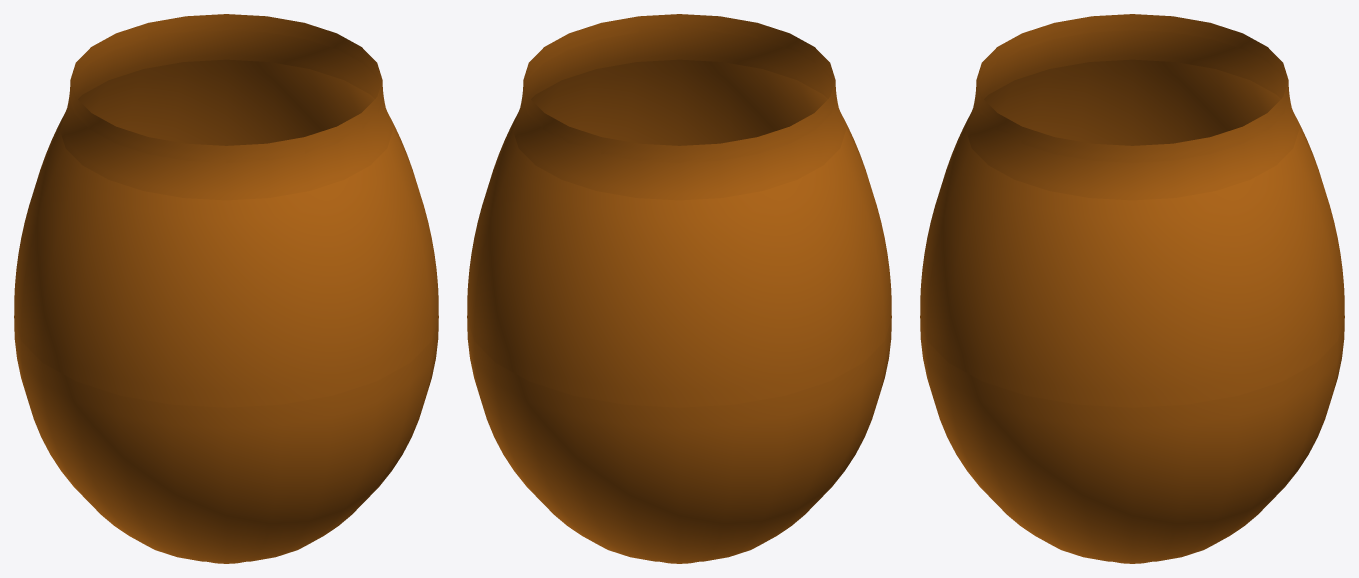
File: beer_content4.dae
The picture shows the model from 3 angles, left to right: view 1: azimuth 30°, elevation 25°; view 2: azimuth 150°, elevation 25°; view 3: azimuth 270°, elevation 25°; orthographic projection.
Parts seen in each view (by area): view 1: _13oz_Libbey_Belgian_Snifter; view 2: _13oz_Libbey_Belgian_Snifter; view 3: _13oz_Libbey_Belgian_Snifter.
Part boxes in pixels (bbox=[...]): _13oz_Libbey_Belgian_Snifter: bbox=[14, 14, 438, 563]; _13oz_Libbey_Belgian_Snifter: bbox=[467, 14, 891, 563]; _13oz_Libbey_Belgian_Snifter: bbox=[920, 14, 1344, 563].
Bounding box in the file's own units: 2.78 × 2.78 × 3.43.
